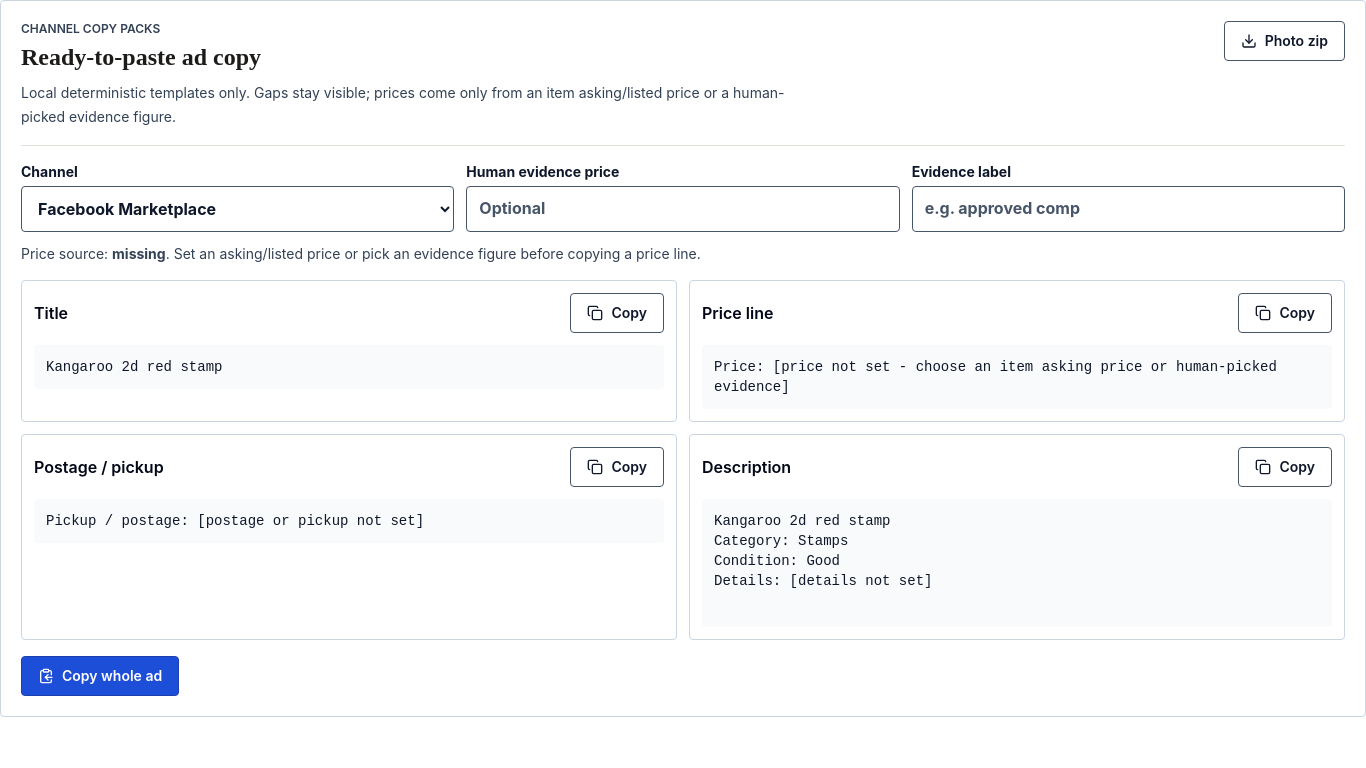
CopyPackPanel renders visible gaps and copies whole ad
Expected: the text "Price: [price not set" is shown, [714,359,1285,395]
Expected: the text "Details: [details not set]" is shown, [714,513,932,589]
Click the button "Copy whole ad" at coordinates (100, 676), box [21,656,179,696]
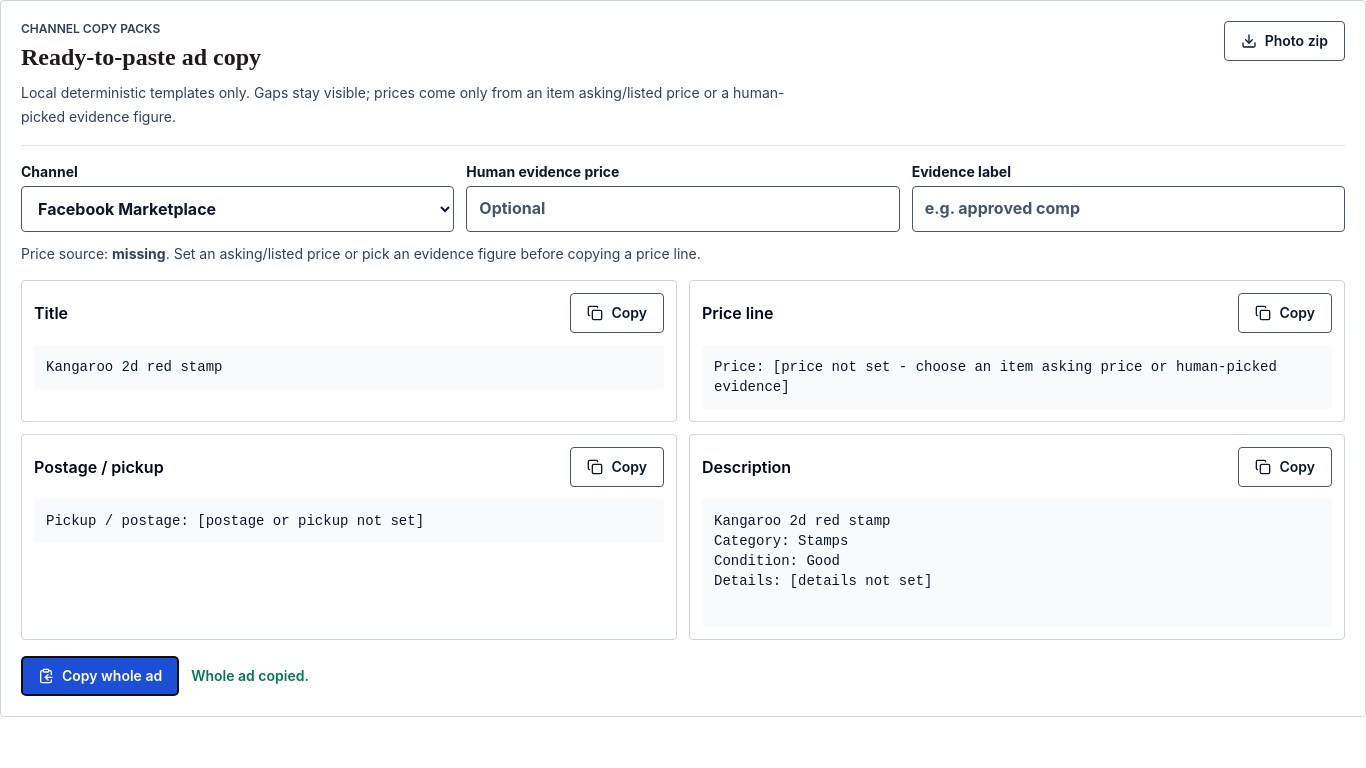
Result: the text "Whole ad copied." is shown at [191,666,309,686]
